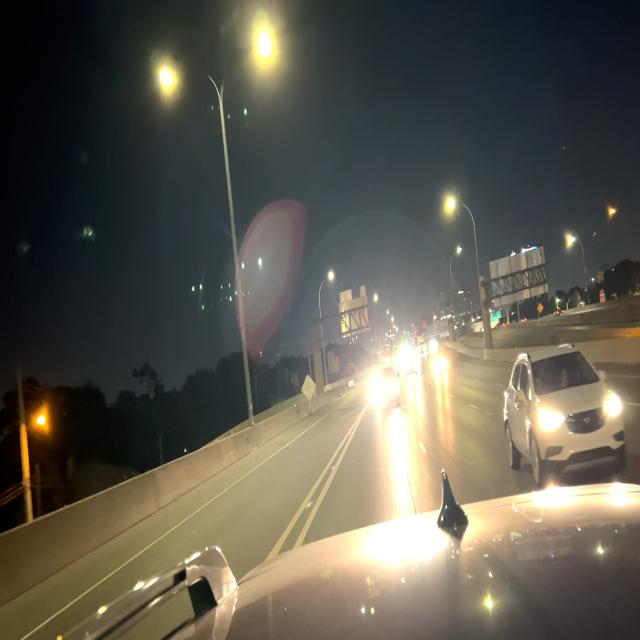back-of-sign: (488, 245, 550, 313), (338, 285, 371, 342), (301, 374, 317, 405)
